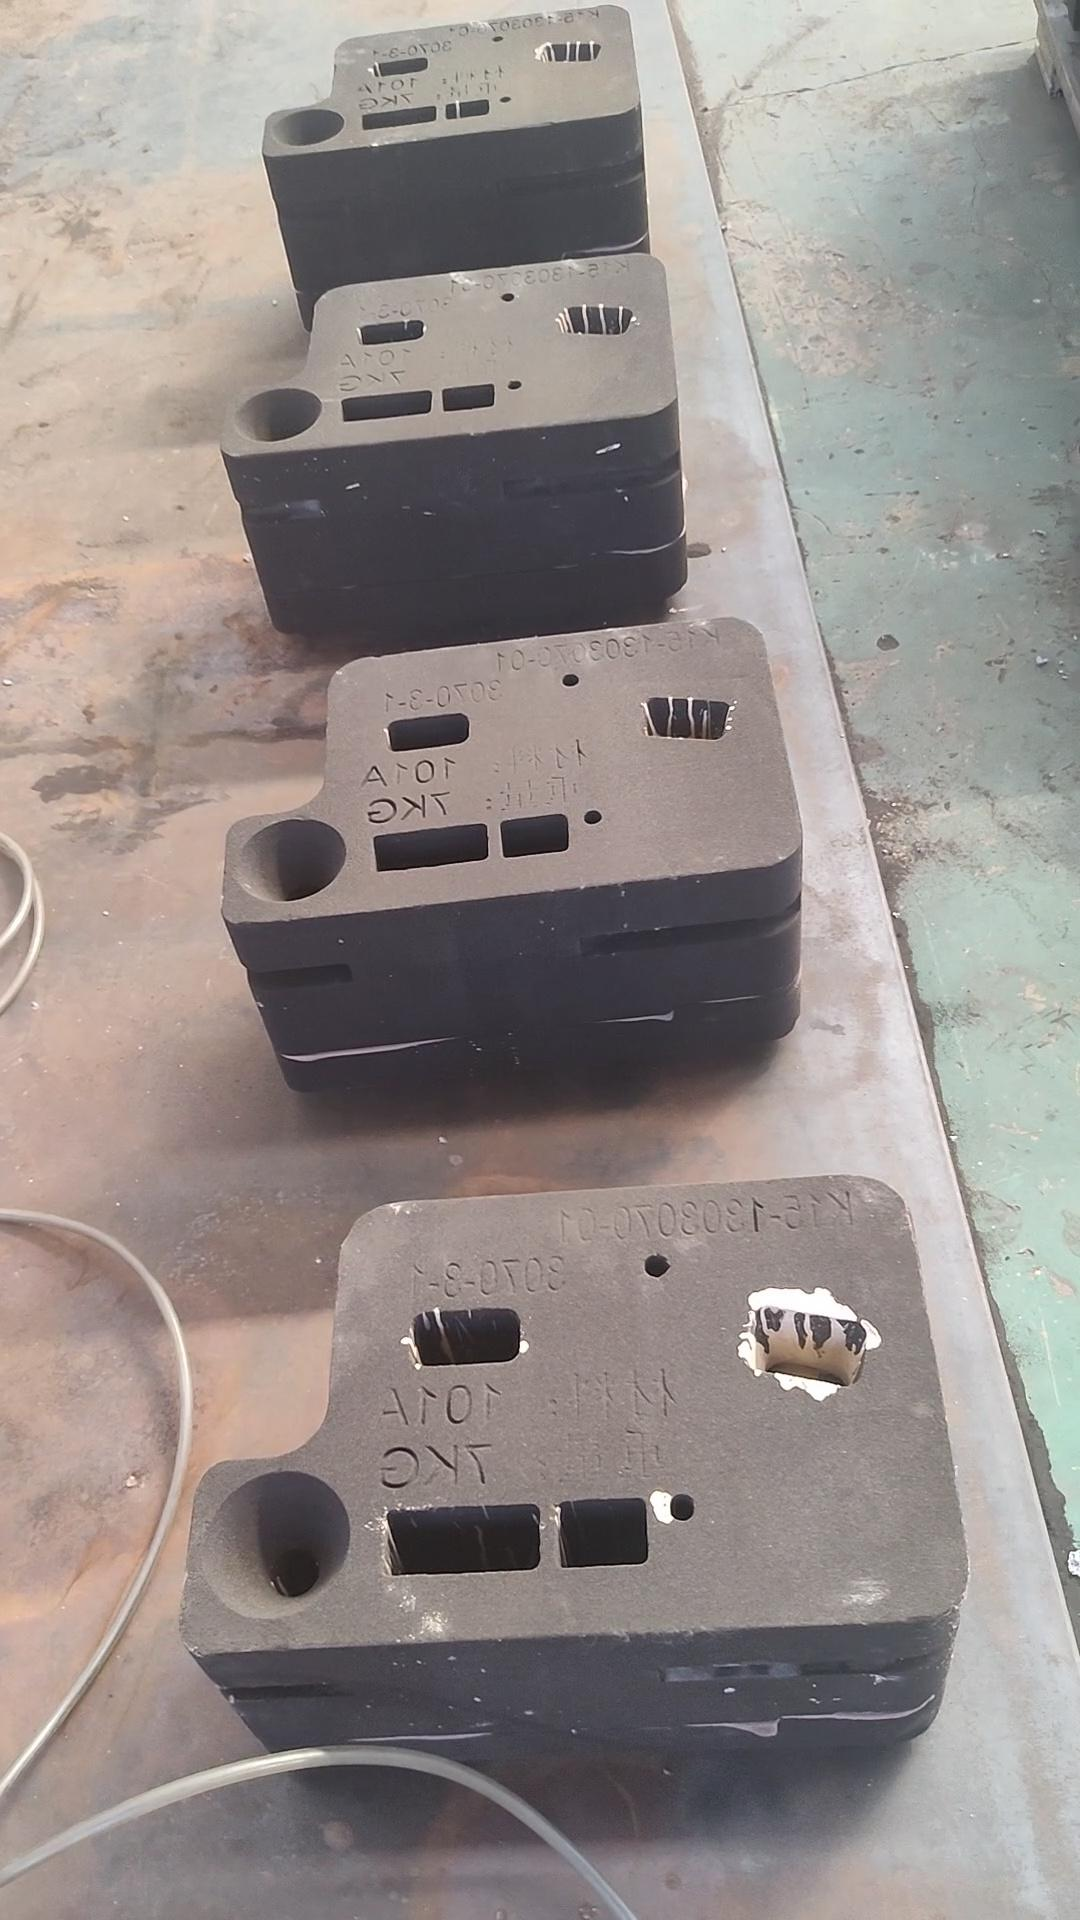pouring hole: (196, 1466, 353, 1621), (233, 819, 349, 905), (229, 386, 324, 443), (269, 108, 345, 148)
